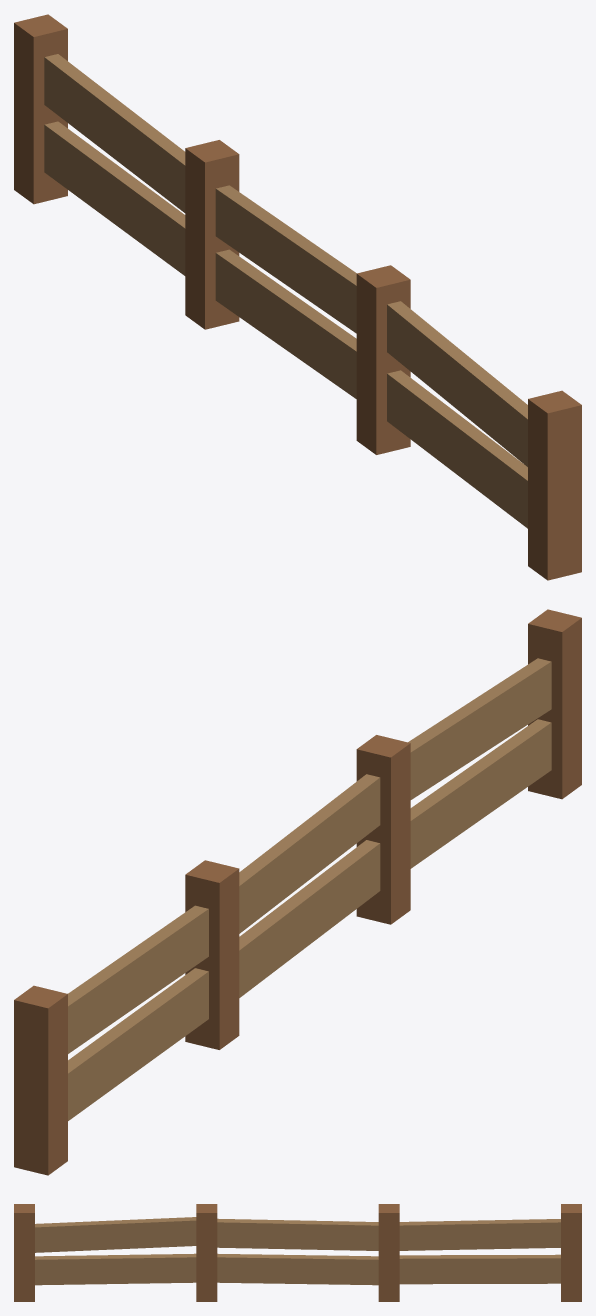
Rendered from Fence_06.fbx.
3 views of the same model, one above another, from view 1: azimuth 30°, elevation 25°; view 2: azimuth 150°, elevation 25°; view 3: azimuth 270°, elevation 25° (orthographic). The views are drawn at different scales.
Parts seen in each view (by area): view 1: Fence_06; view 2: Fence_06; view 3: Fence_06.
Boxes of the visible parts, <box> form: Fence_06: <box>14,14,581,580</box>; Fence_06: <box>14,609,581,1175</box>; Fence_06: <box>14,1204,581,1301</box>.
Size of the model in its own units: 0.75 by 3.5 by 20.25.
